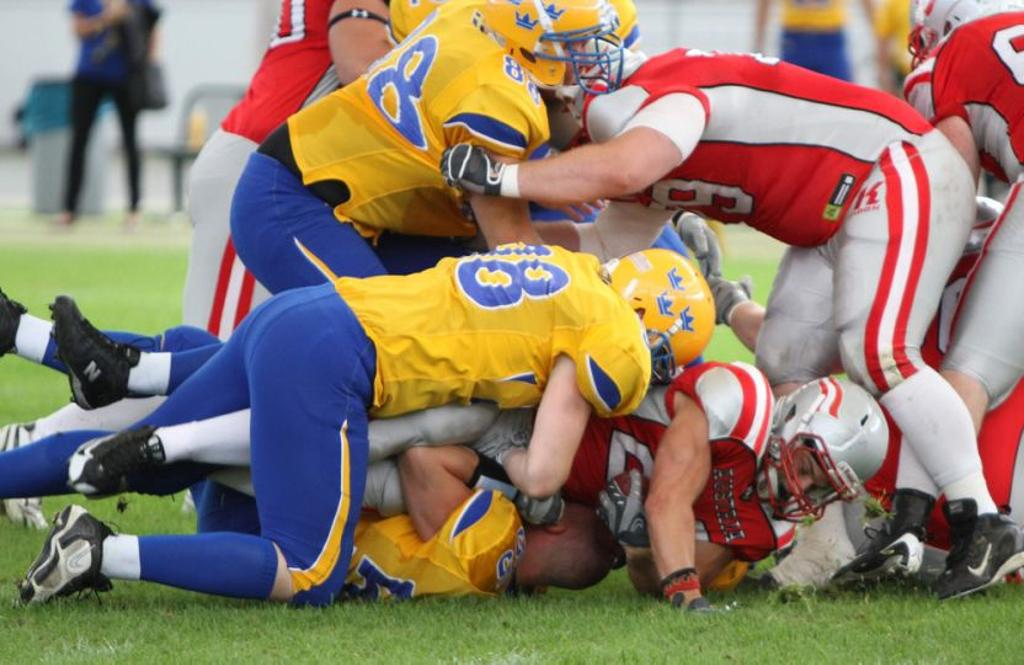face: (763, 429, 855, 511)
